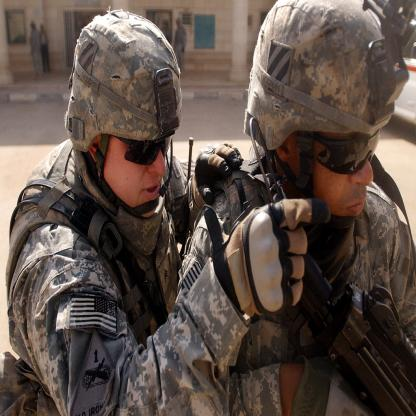Helmet: (245, 7, 401, 212), (64, 6, 184, 258)
